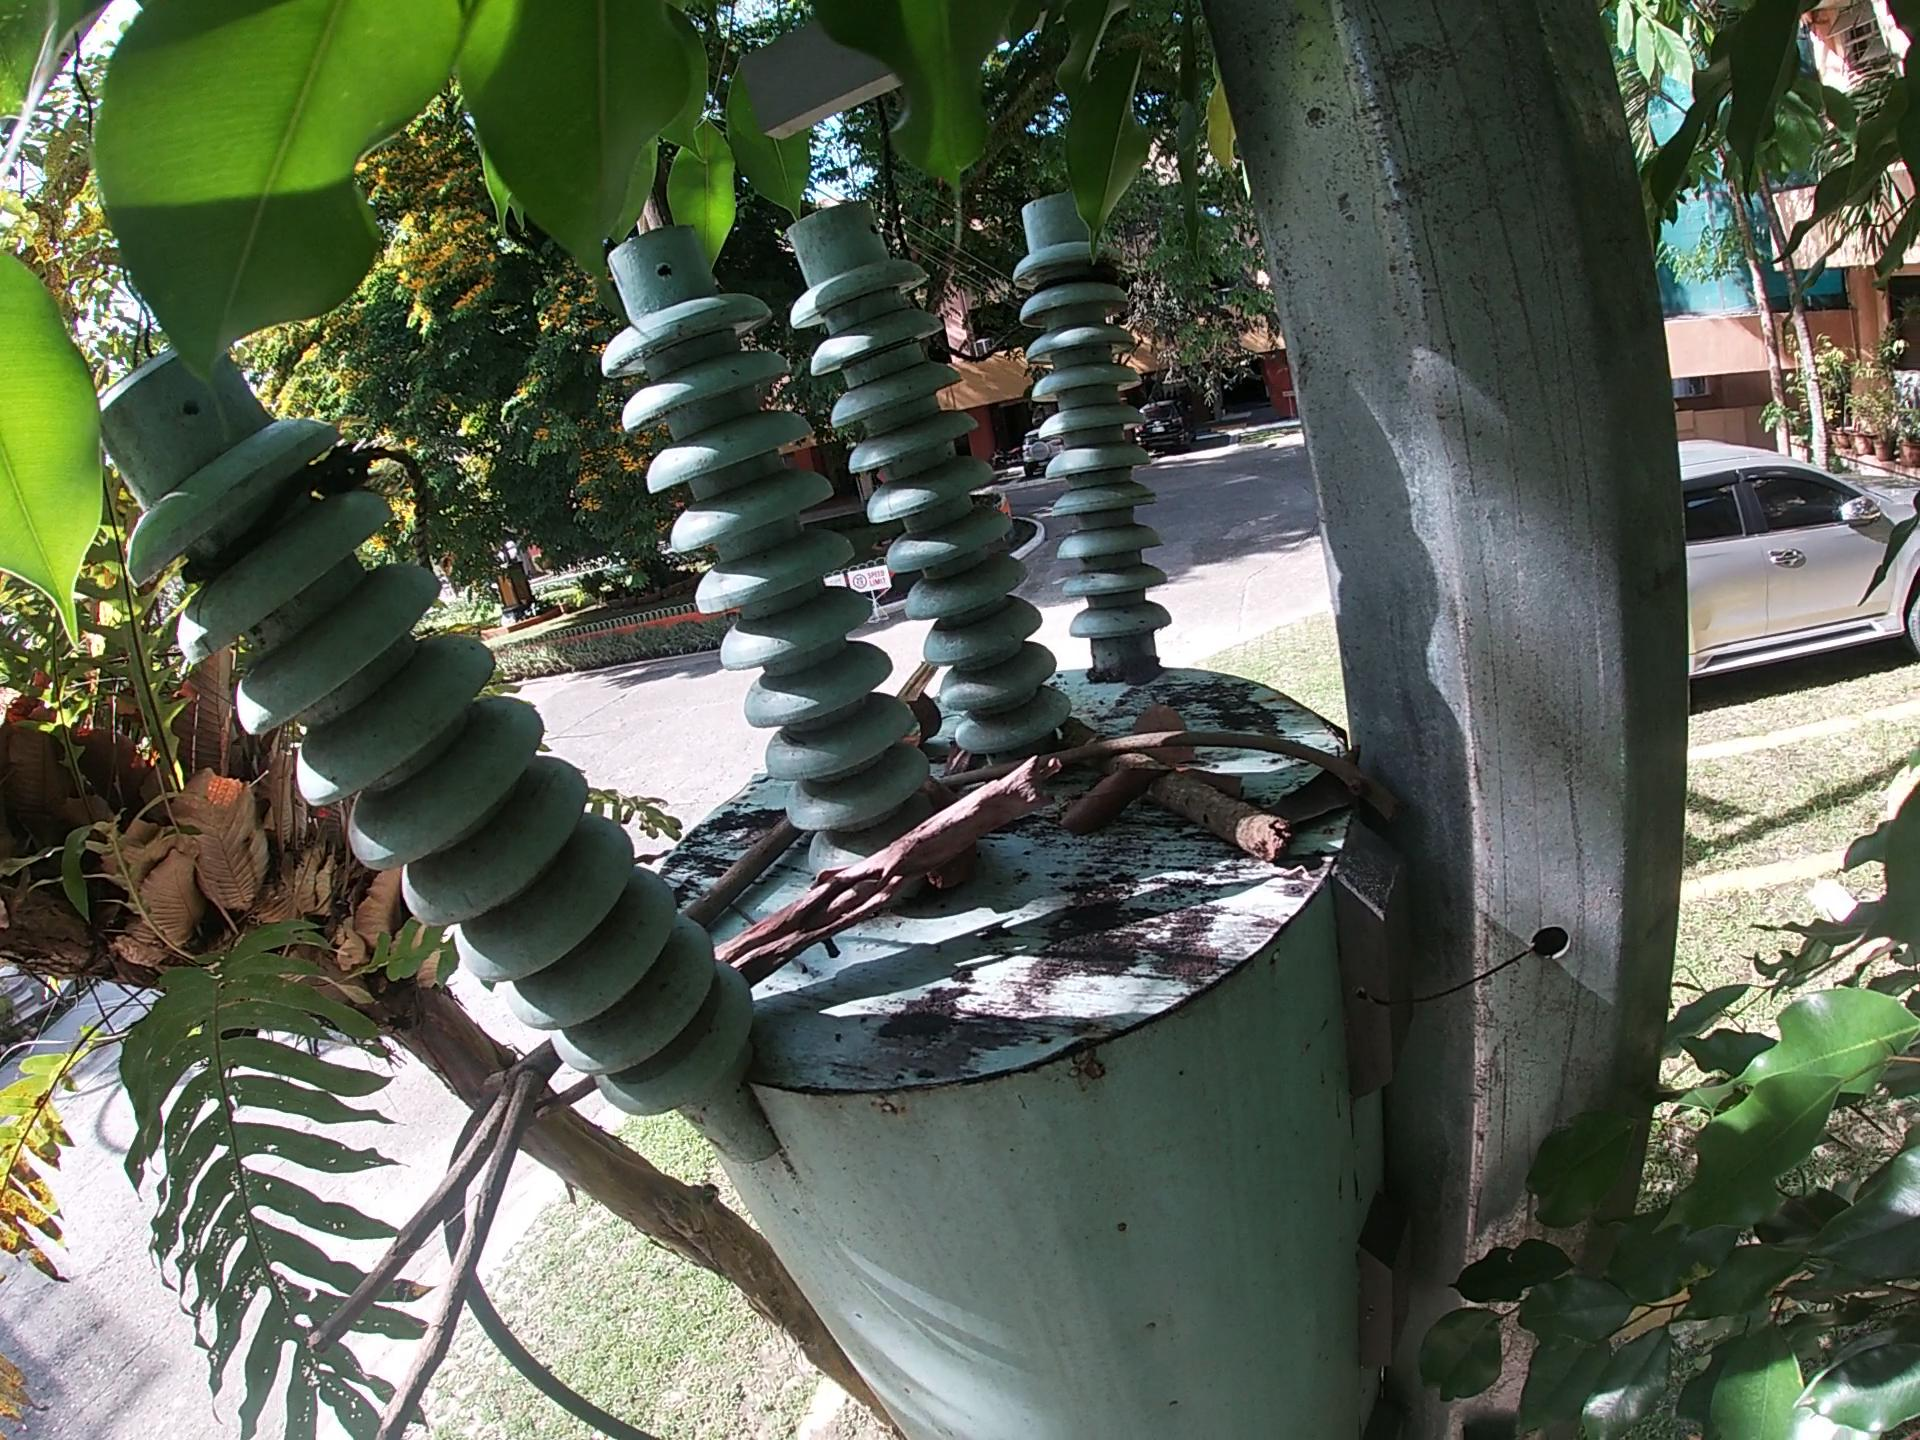leaf: (1045, 767, 1175, 853), (1134, 705, 1226, 771)
mahogany fruit: (915, 693, 943, 750)
tree branch: (252, 1051, 576, 1434), (714, 750, 1073, 982), (906, 738, 1386, 812), (1070, 717, 1303, 859), (686, 811, 810, 921), (892, 644, 943, 711)
